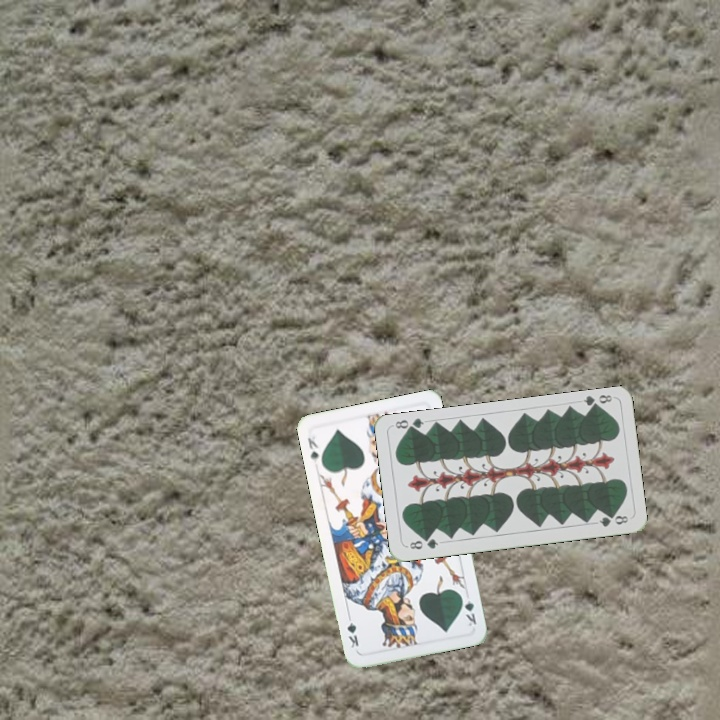G8: (579, 391, 614, 412), (405, 534, 441, 552)
GK: (457, 591, 479, 629), (304, 432, 321, 465)
